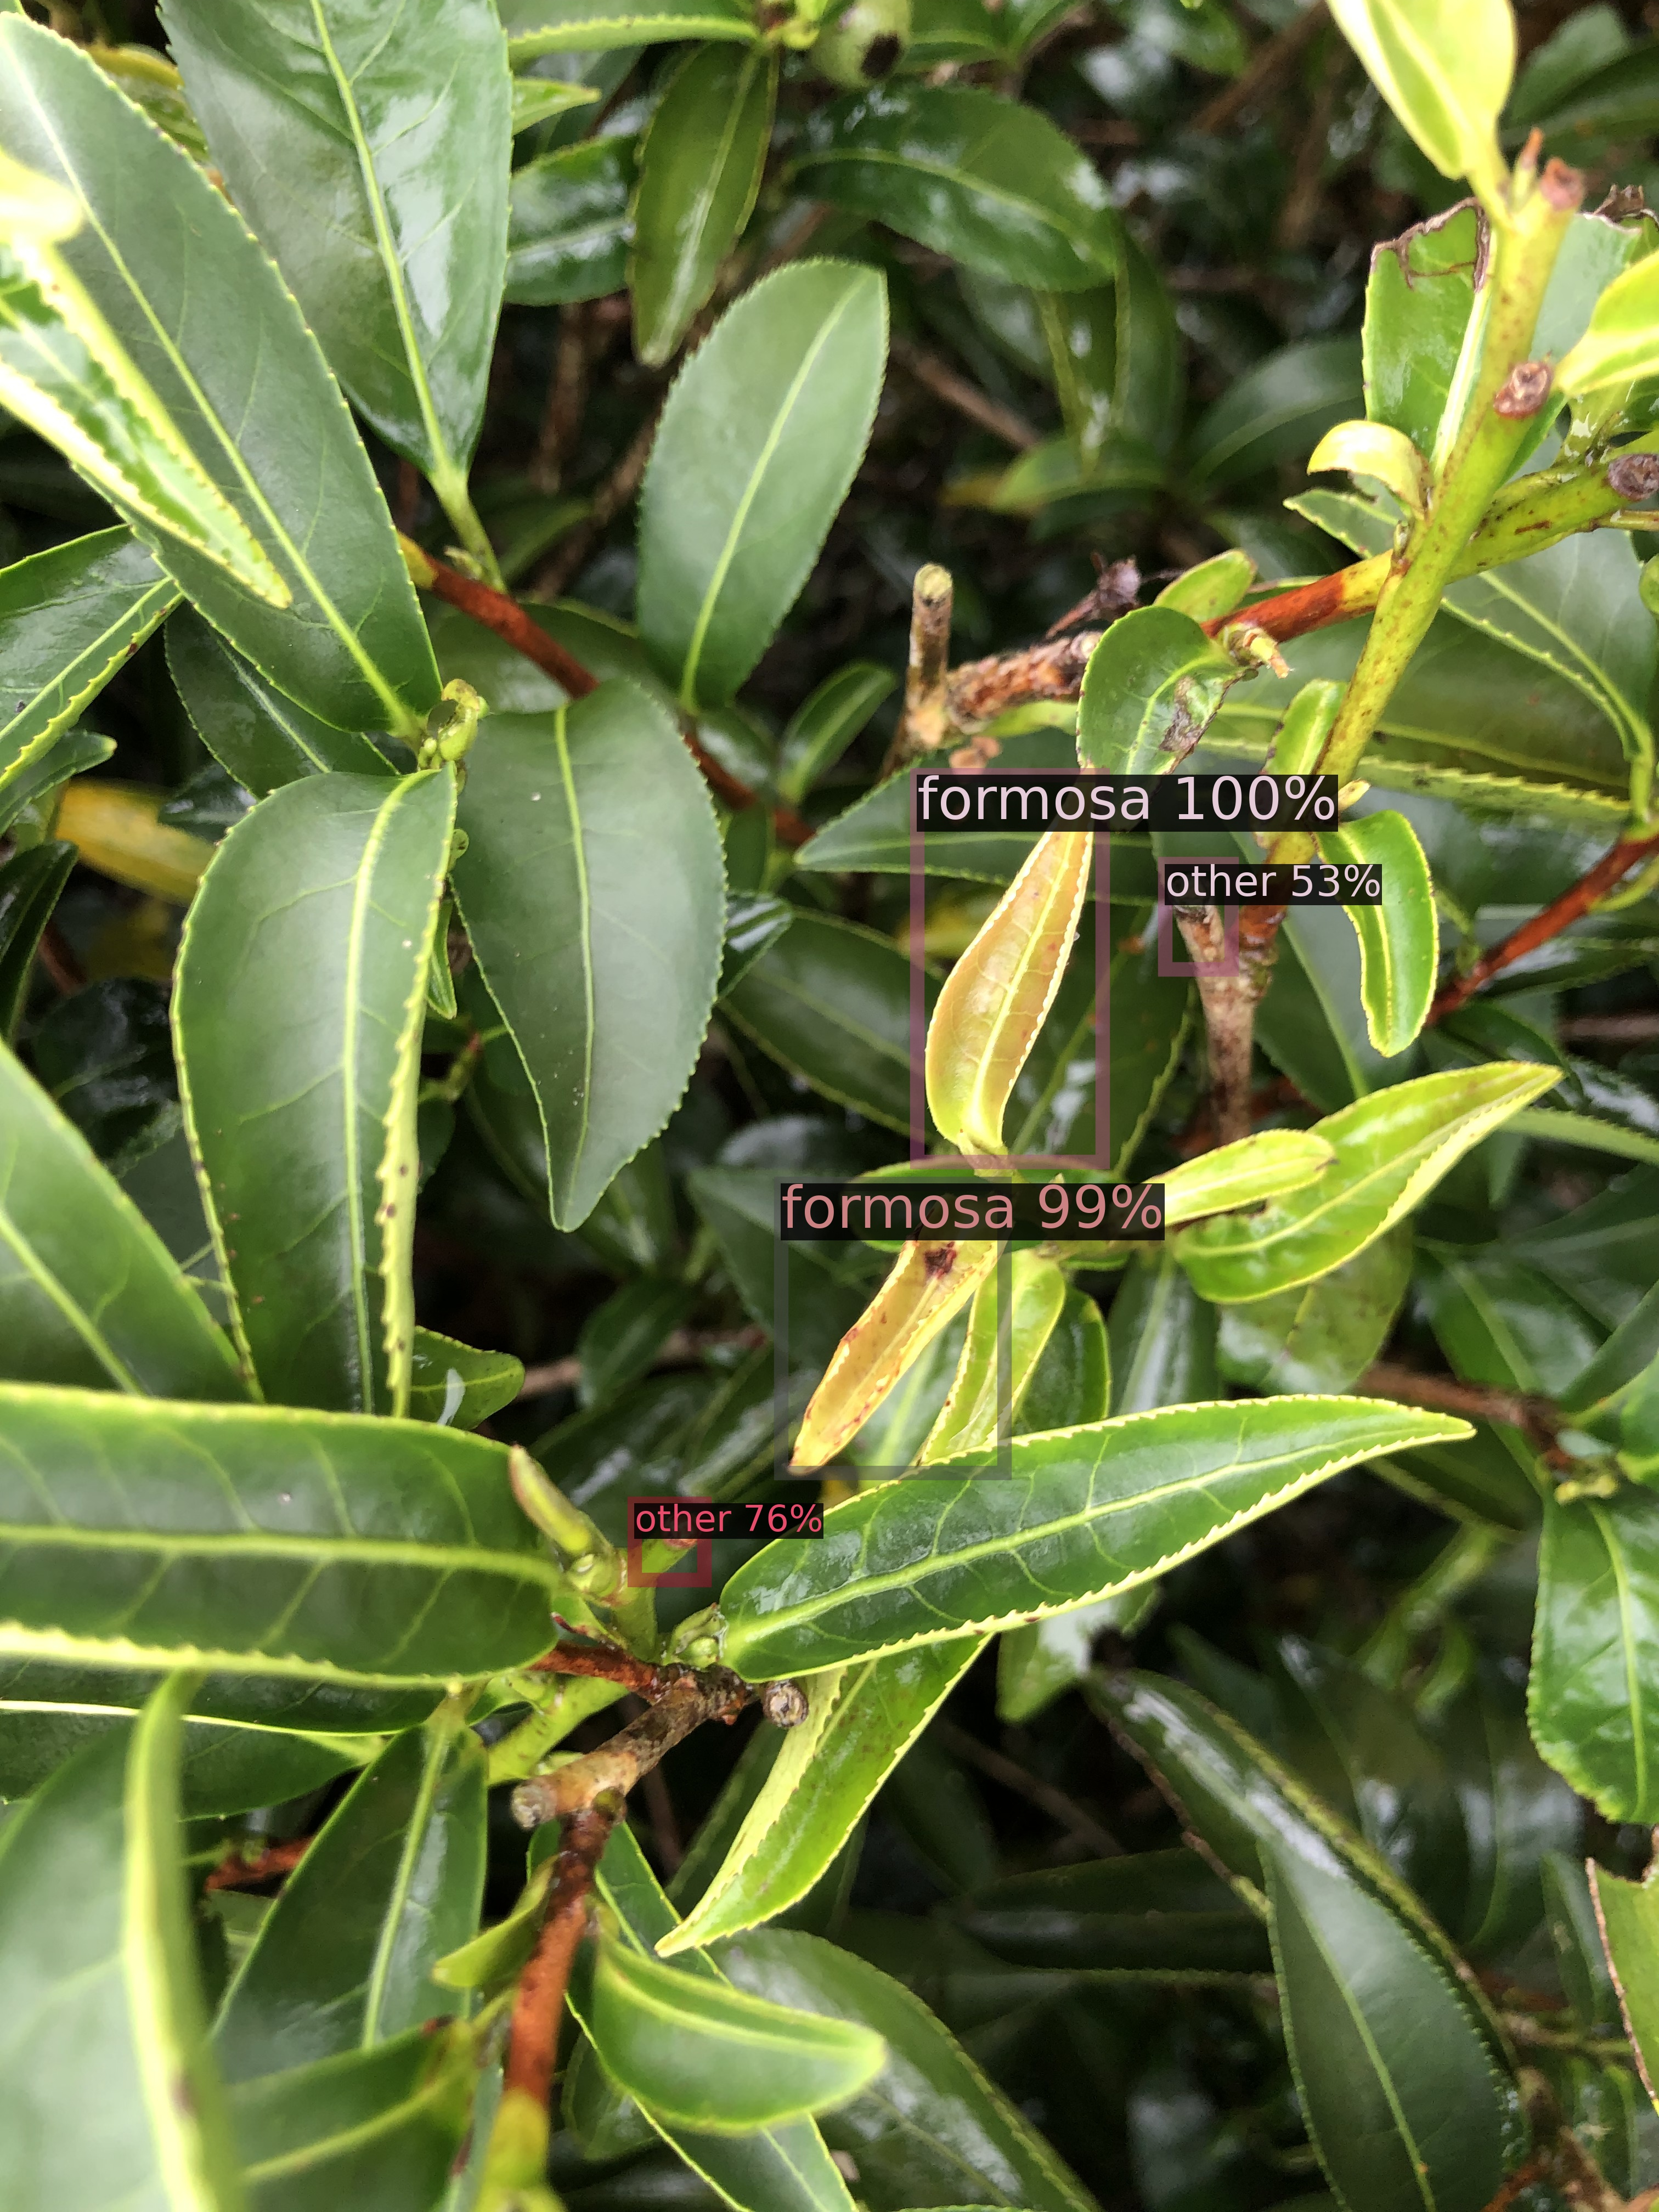formosa: (917, 775, 1101, 1162), (781, 1184, 1004, 1472)
other: (1164, 864, 1232, 970), (634, 1503, 704, 1580)
